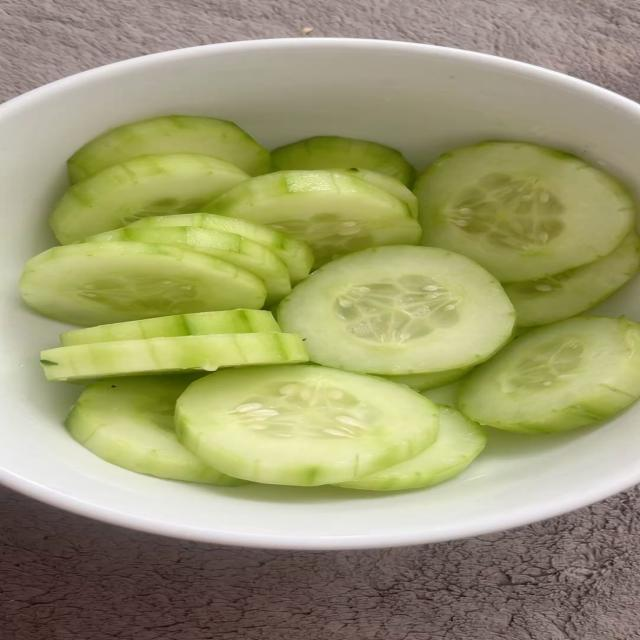cucumber sliced: (176, 366, 439, 485), (415, 142, 634, 281), (278, 247, 514, 375), (459, 317, 639, 433), (20, 242, 266, 325), (205, 171, 420, 265), (67, 377, 245, 485), (51, 154, 248, 243), (84, 227, 291, 304), (68, 116, 270, 182), (40, 333, 308, 381), (130, 213, 313, 282), (505, 233, 639, 326), (340, 406, 486, 490), (60, 310, 279, 346), (273, 137, 414, 183), (330, 168, 418, 217), (385, 368, 469, 391)
